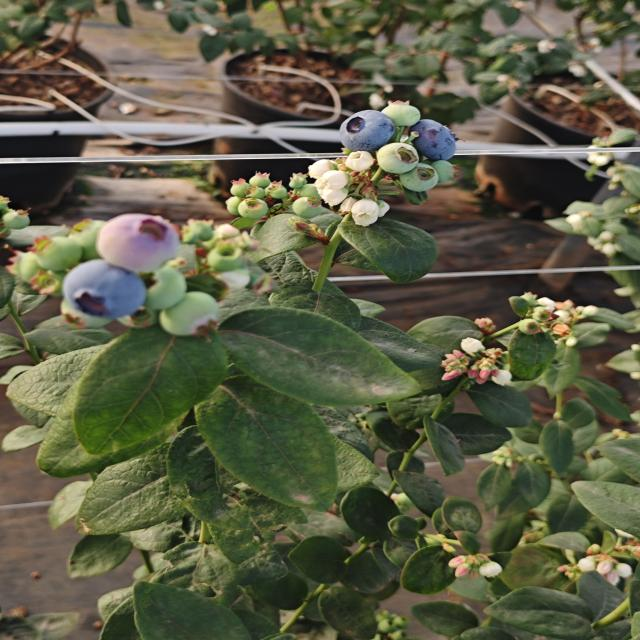ripe: (59, 258, 150, 324), (336, 108, 397, 154), (405, 118, 459, 163)
